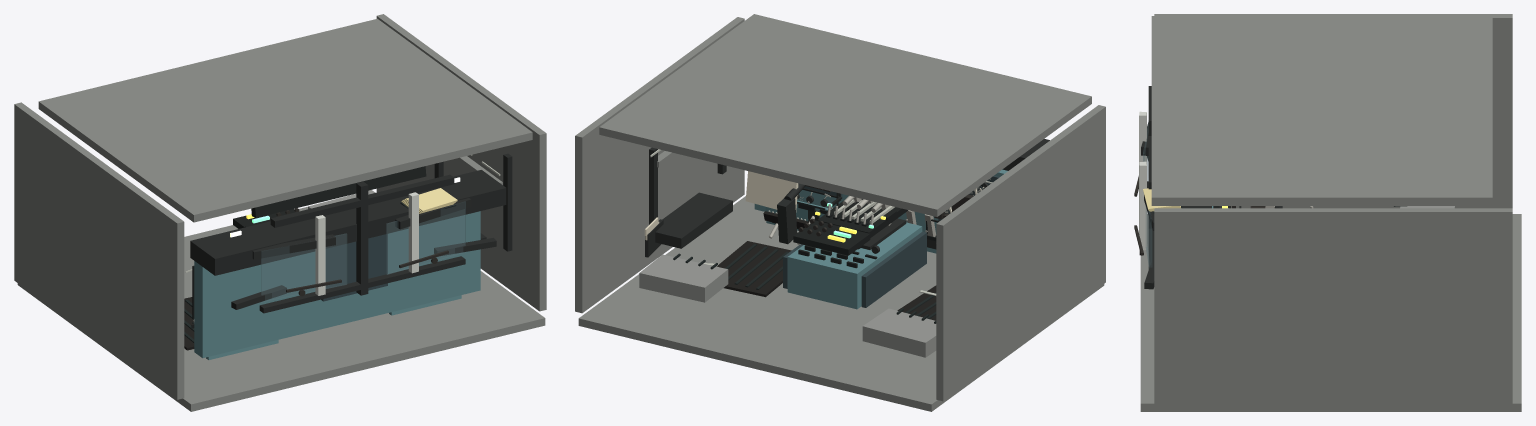
Rendered from dc9-cockpit.glb.
3 views of the same model, side by side, from view 1: azimuth 30°, elevation 25°; view 2: azimuth 150°, elevation 25°; view 3: azimuth 270°, elevation 25° (orthographic). The views are drawn at different scales.
Parts seen in each view (by area): view 1: DC9_COCKPIT_SHELL_CEILING_01, DC9_COCKPIT_SHELL_LEFT_WALL_01, DC9_COCKPIT_SHELL_FLOOR_01, DC9_MAIN_PANEL_BLOCKOUT_01, DC9_COCKPIT_SHELL_RIGHT_WALL_01, DC9_GLARESHIELD_BLOCKOUT_01, DC9_WINDSHIELD_LEFT_GLASS_01, DC9_WINDSHIELD_RIGHT_GLASS_01, DC9_CENTER_ENGINE_PANEL_BLOCKOUT_01, DC9_WINDSHIELD_UPPER_SHADOW_LIP_01, DC9_FORWARD_OVERHEAD_FACE_01, DC9_WINDSHIELD_LOWER_SHADOW_LIP_01 (+9 smaller); view 2: DC9_COCKPIT_SHELL_CEILING_01, DC9_COCKPIT_SHELL_LEFT_WALL_01, DC9_COCKPIT_SHELL_FLOOR_01, DC9_COCKPIT_SHELL_RIGHT_WALL_01, DC9_CENTER_PEDESTAL_BLOCKOUT_01, DC9_FIRST_OFFICER_SEAT_CUSHION_VISIBLE_01, DC9_CAPTAIN_SEAT_CUSHION_VISIBLE_01, DC9_RIGHT_ARMREST_SHADOW_01, DC9_CENTER_PEDESTAL_SIDE_SHADOW_01, DC9_FIRST_OFFICER_BLACK_RUBBER_FLOOR_MAT_01, DC9_PEDESTAL_RADIO_STACK_BLACK_PANEL_01, DC9_PROP_MEM_ROUTE_CARD_01 (+5 smaller); view 3: DC9_COCKPIT_SHELL_RIGHT_WALL_01, DC9_COCKPIT_SHELL_CEILING_01, DC9_COCKPIT_SHELL_FLOOR_01, DC9_COCKPIT_SHELL_LEFT_WALL_01, DC9_WINDSHIELD_RIGHT_WHITE_POST_01.
Boxes of the visible parts, x1,y1,x2,y2 form: DC9_COCKPIT_SHELL_CEILING_01: [38, 18, 532, 222]; DC9_COCKPIT_SHELL_LEFT_WALL_01: [14, 102, 184, 399]; DC9_COCKPIT_SHELL_FLOOR_01: [17, 207, 545, 411]; DC9_MAIN_PANEL_BLOCKOUT_01: [194, 211, 480, 358]; DC9_COCKPIT_SHELL_RIGHT_WALL_01: [376, 14, 546, 311]; DC9_GLARESHIELD_BLOCKOUT_01: [190, 170, 506, 275]; DC9_WINDSHIELD_LEFT_GLASS_01: [261, 233, 346, 301]; DC9_WINDSHIELD_RIGHT_GLASS_01: [386, 201, 465, 274]; DC9_CENTER_ENGINE_PANEL_BLOCKOUT_01: [321, 234, 387, 301]; DC9_WINDSHIELD_UPPER_SHADOW_LIP_01: [270, 174, 454, 227]; DC9_FORWARD_OVERHEAD_FACE_01: [251, 166, 426, 217]; DC9_WINDSHIELD_LOWER_SHADOW_LIP_01: [259, 256, 465, 313]; DC9_COCKPIT_SHELL_CEILING_01: [599, 14, 1091, 216]; DC9_COCKPIT_SHELL_LEFT_WALL_01: [936, 105, 1105, 401]; DC9_COCKPIT_SHELL_FLOOR_01: [578, 196, 1104, 411]; DC9_COCKPIT_SHELL_RIGHT_WALL_01: [575, 17, 744, 313]; DC9_CENTER_PEDESTAL_BLOCKOUT_01: [787, 222, 922, 309]; DC9_FIRST_OFFICER_SEAT_CUSHION_VISIBLE_01: [639, 254, 728, 302]; DC9_CAPTAIN_SEAT_CUSHION_VISIBLE_01: [862, 308, 936, 357]; DC9_RIGHT_ARMREST_SHADOW_01: [655, 192, 732, 248]; DC9_CENTER_PEDESTAL_SIDE_SHADOW_01: [861, 231, 926, 307]; DC9_FIRST_OFFICER_BLACK_RUBBER_FLOOR_MAT_01: [717, 241, 791, 297]; DC9_PEDESTAL_RADIO_STACK_BLACK_PANEL_01: [793, 220, 870, 255]; DC9_PROP_MEM_ROUTE_CARD_01: [745, 171, 798, 212]; DC9_COCKPIT_SHELL_RIGHT_WALL_01: [1154, 208, 1512, 405]; DC9_COCKPIT_SHELL_CEILING_01: [1151, 16, 1492, 205]; DC9_COCKPIT_SHELL_FLOOR_01: [1140, 214, 1521, 411]; DC9_COCKPIT_SHELL_LEFT_WALL_01: [1154, 14, 1512, 208]; DC9_WINDSHIELD_RIGHT_WHITE_POST_01: [1139, 161, 1146, 250].
Size of what is drawn, in the model's own units: 4.12 by 2.04 by 3.41.
